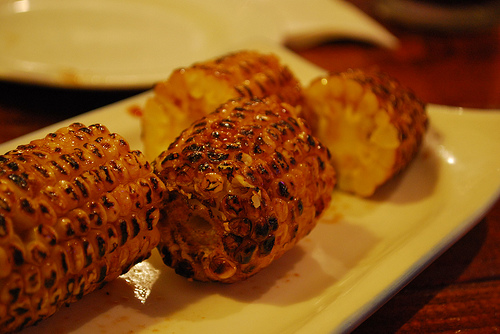corn: (147, 90, 339, 284), (1, 121, 167, 333), (140, 48, 319, 152), (302, 63, 429, 199)
